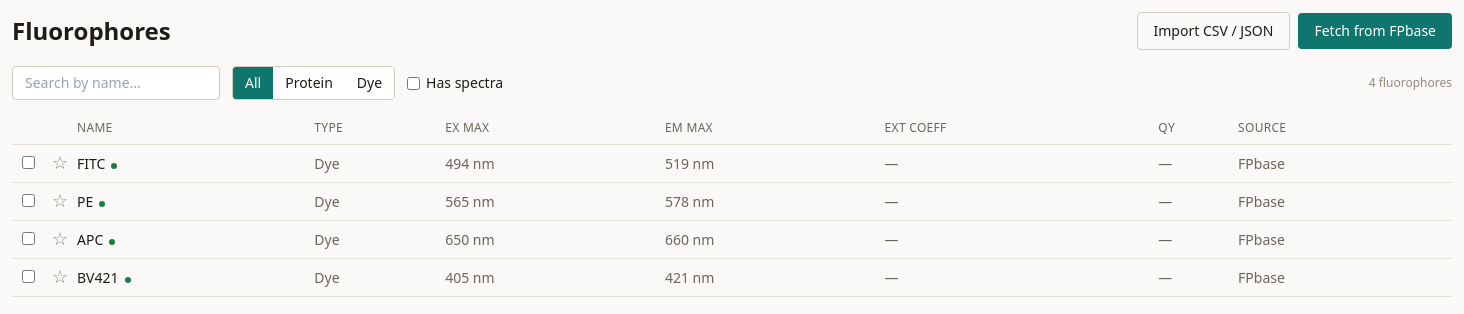
Test: Fluorophore Workflow Integration › check 3 fluorophores → overlay sidebar appears
Expected: the text "Spectra Overlay" is not shown
Step 1. Click the checkbox titled "Add to spectra overlay" next to "FITC" → (28, 162), box top-left (22, 156), bottom-right (34, 168)
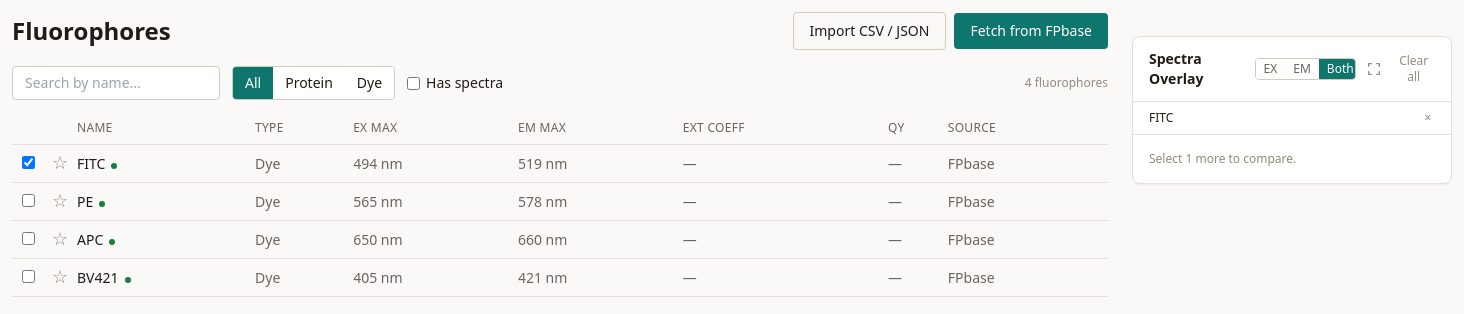
Step 2. Click the checkbox titled "Add to spectra overlay" in the row of "565 nm" → (28, 200), box top-left (22, 194), bottom-right (34, 206)
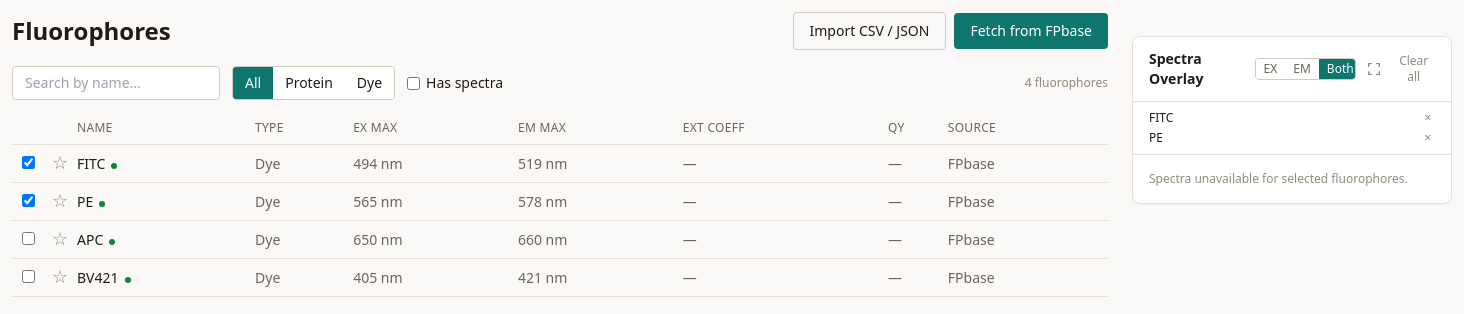
Step 3. Click the checkbox titled "Add to spectra overlay" next to "APC" → (28, 238), box top-left (22, 232), bottom-right (34, 244)
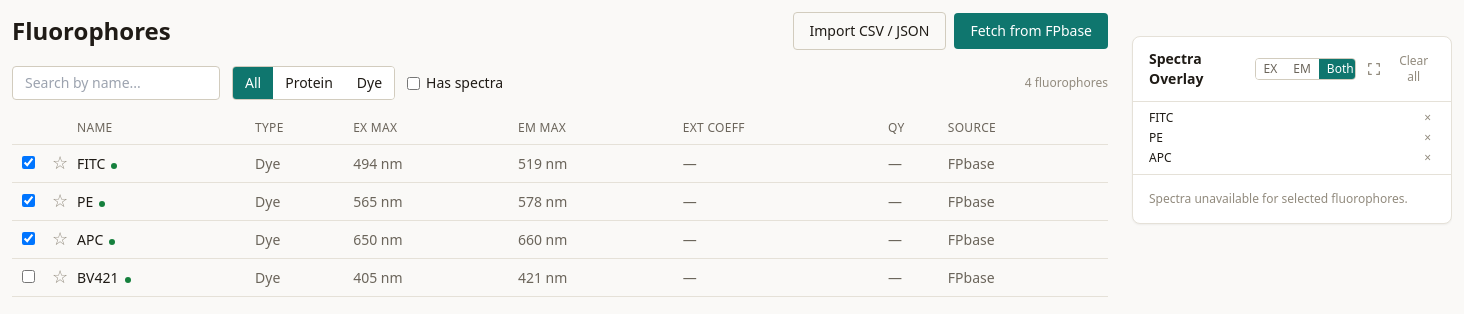
Expected: the heading "Spectra Overlay" is shown, top-left (1149, 49), bottom-right (1203, 88)
Expected: the number of buttons named "Remove" is 3, top-left (1420, 110), bottom-right (1435, 126); top-left (1420, 130), bottom-right (1435, 146); top-left (1420, 150), bottom-right (1435, 166)
